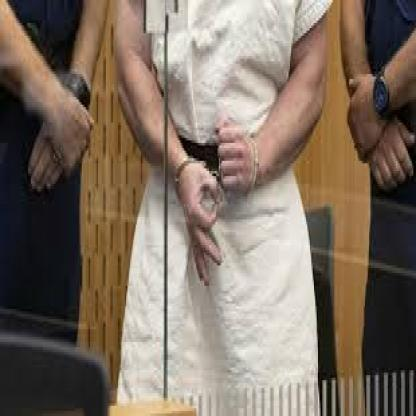ok: (180, 162, 228, 289)
